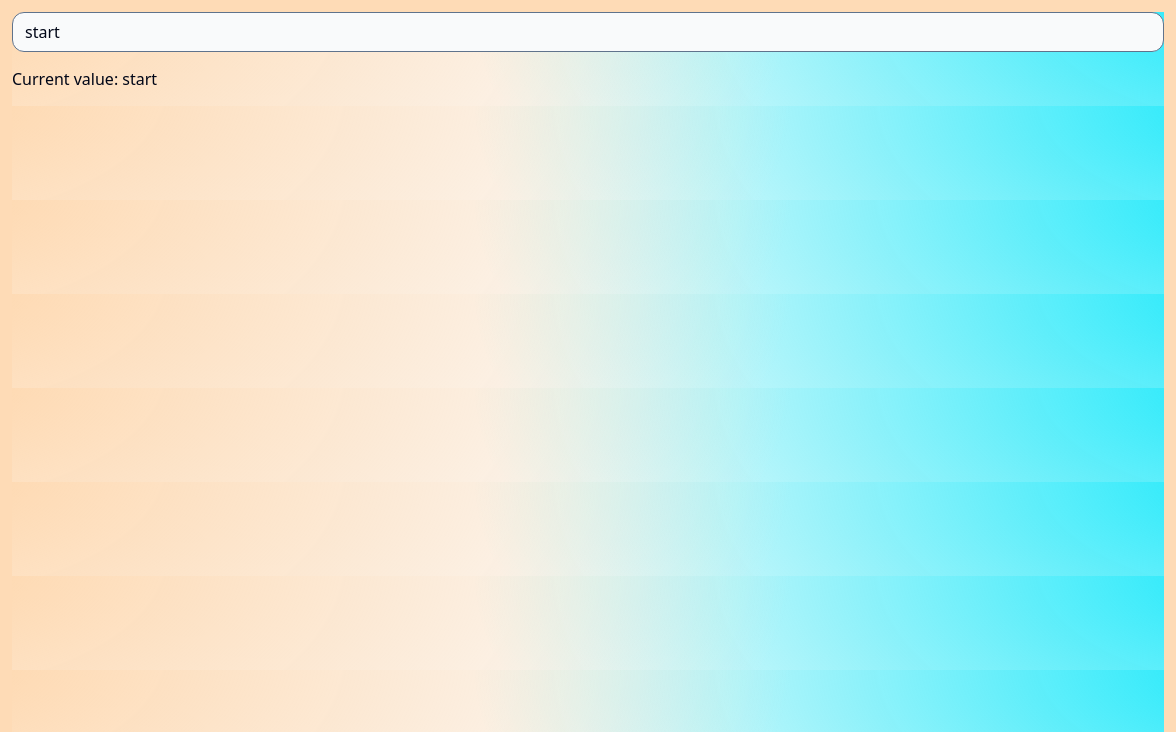
Input › updates value in controlled mode
This screenshot has width=1176, height=732.
Replace the text in the field named "Controlled input" with "new value" at (588, 32), box [12,12,1164,52]
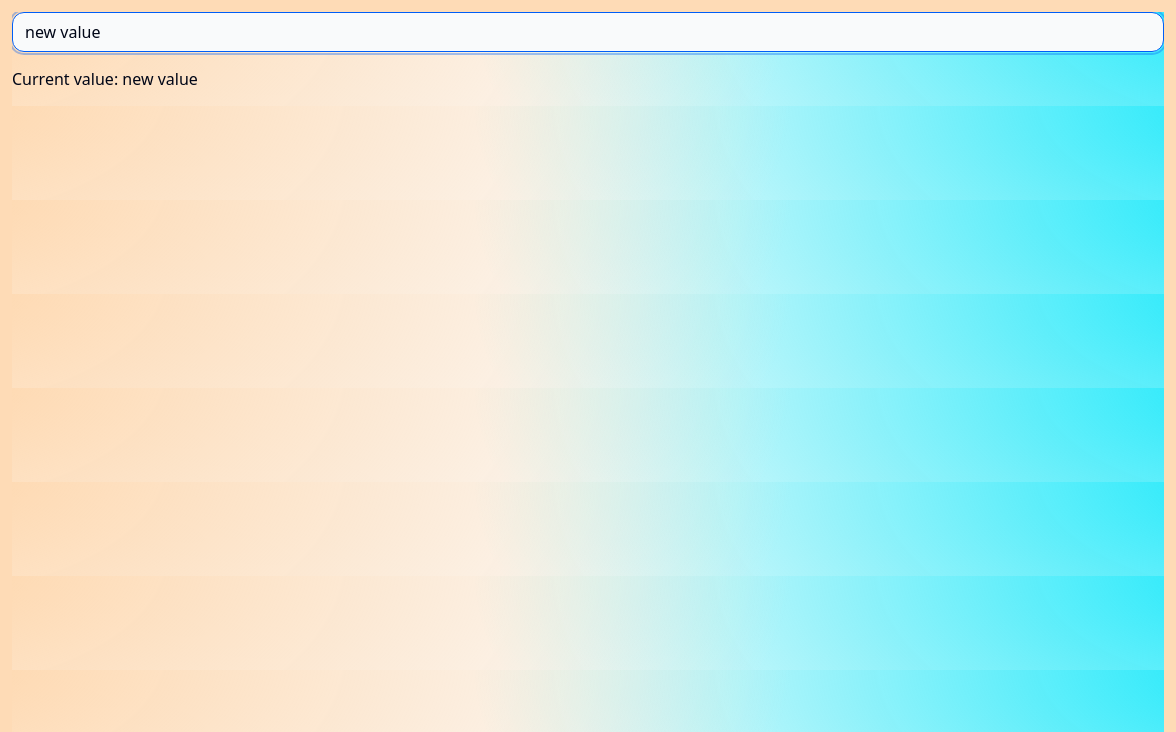
Expected: the text "Current value: new value" is shown, [12,68,198,90]
